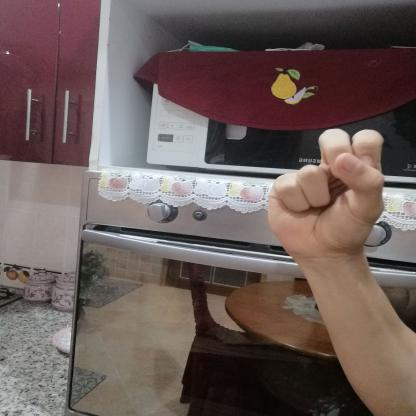QAAF: (253, 117, 404, 270)
